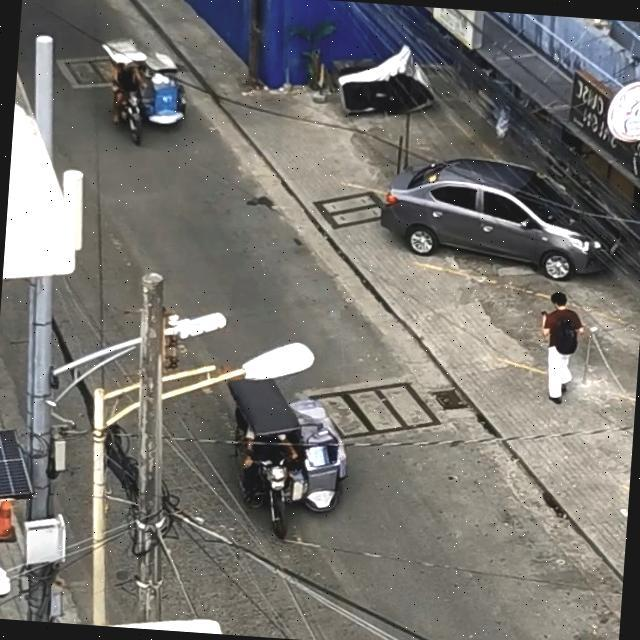Tricycle: (232, 372, 356, 526), (101, 38, 192, 146)
